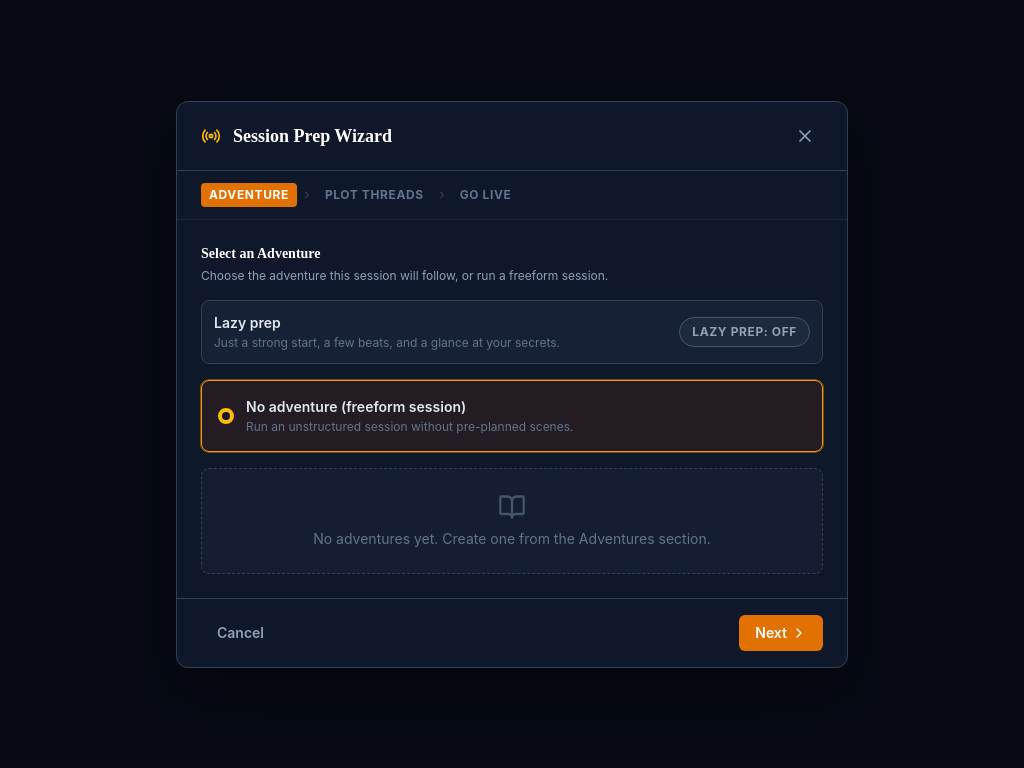
it: "Drop into action" has no material precondition › is offered on the Go Live step even with nothing played or prepped
The image size is (1024, 768).
Click the button "Go Live". click: click(486, 194)
box: [452,182,519,206]
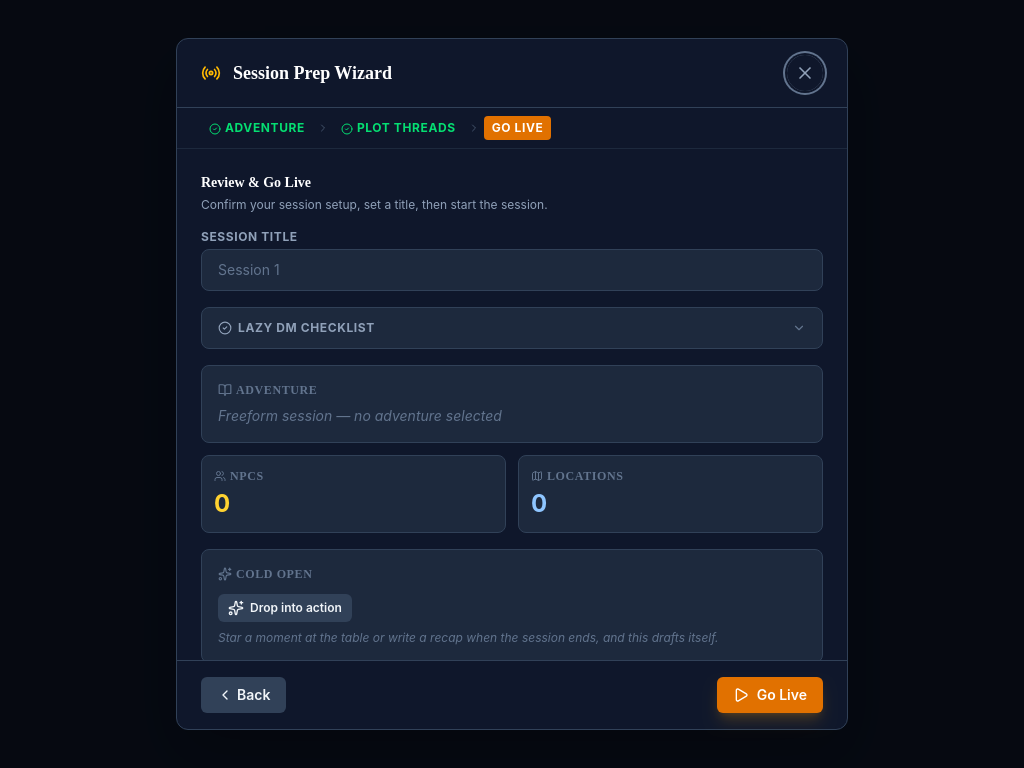
Expected: the button "Drop into action" is shown, [218,594,352,622]
